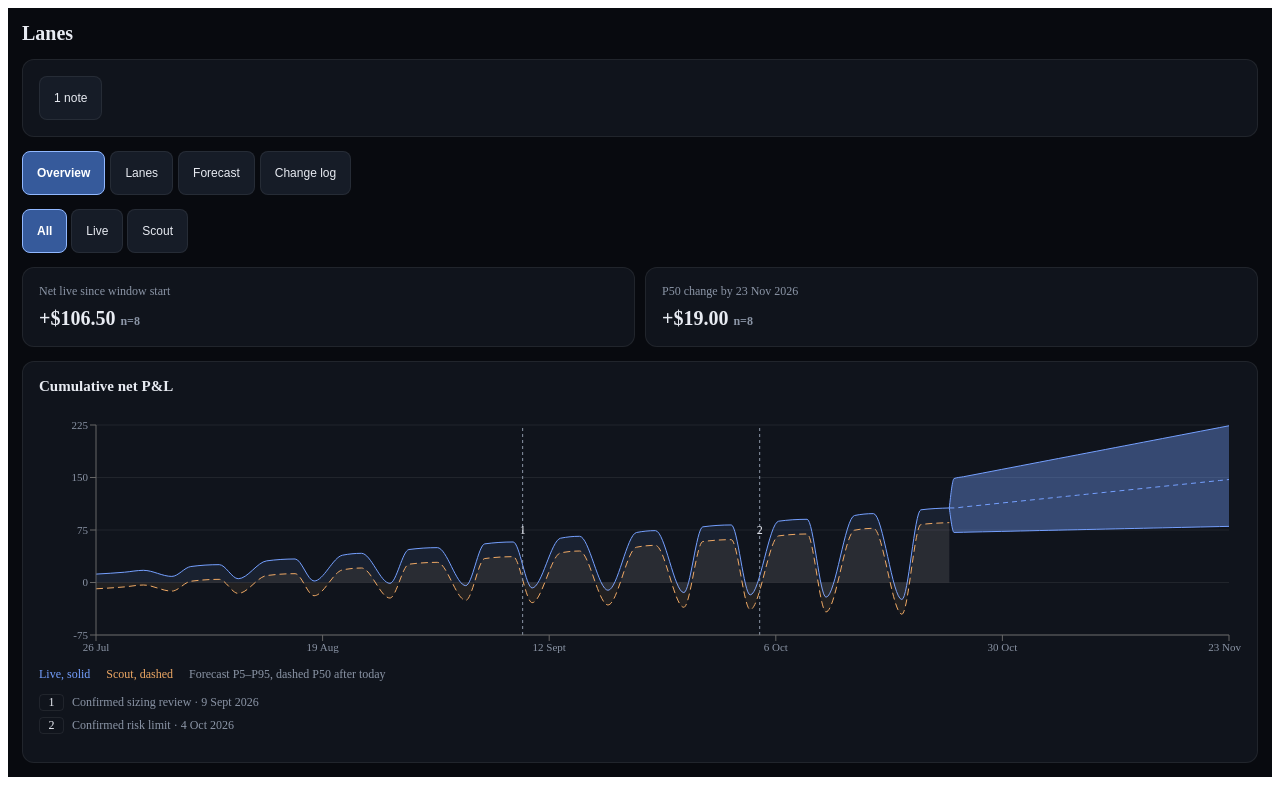
Scenario: LanePerformanceView › renders the synthetic report with all verdicts, R units and an empty lane series
Step 1. Click the button "Lanes" → (142, 173), box [110, 151, 173, 195]
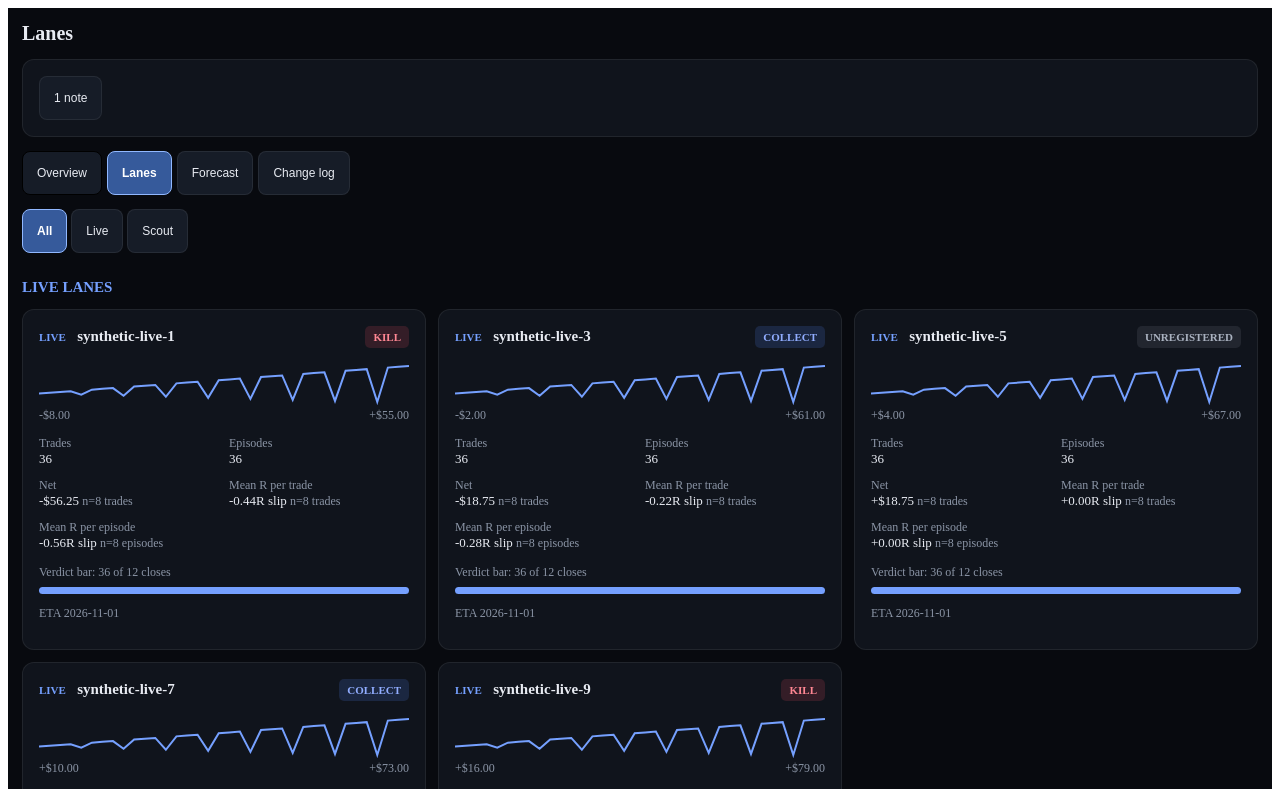
Check: the number of elements with test id "lane-card" is 10
Check: the text "KILL" in the row of "synthetic-live-1" is shown, box [374, 331, 401, 343]
Check: the text "COLLECT" in the row of "synthetic-live-3" is shown, box [763, 331, 817, 343]
Step 2. Click the button "Overview" → (62, 173), box [22, 151, 102, 195]
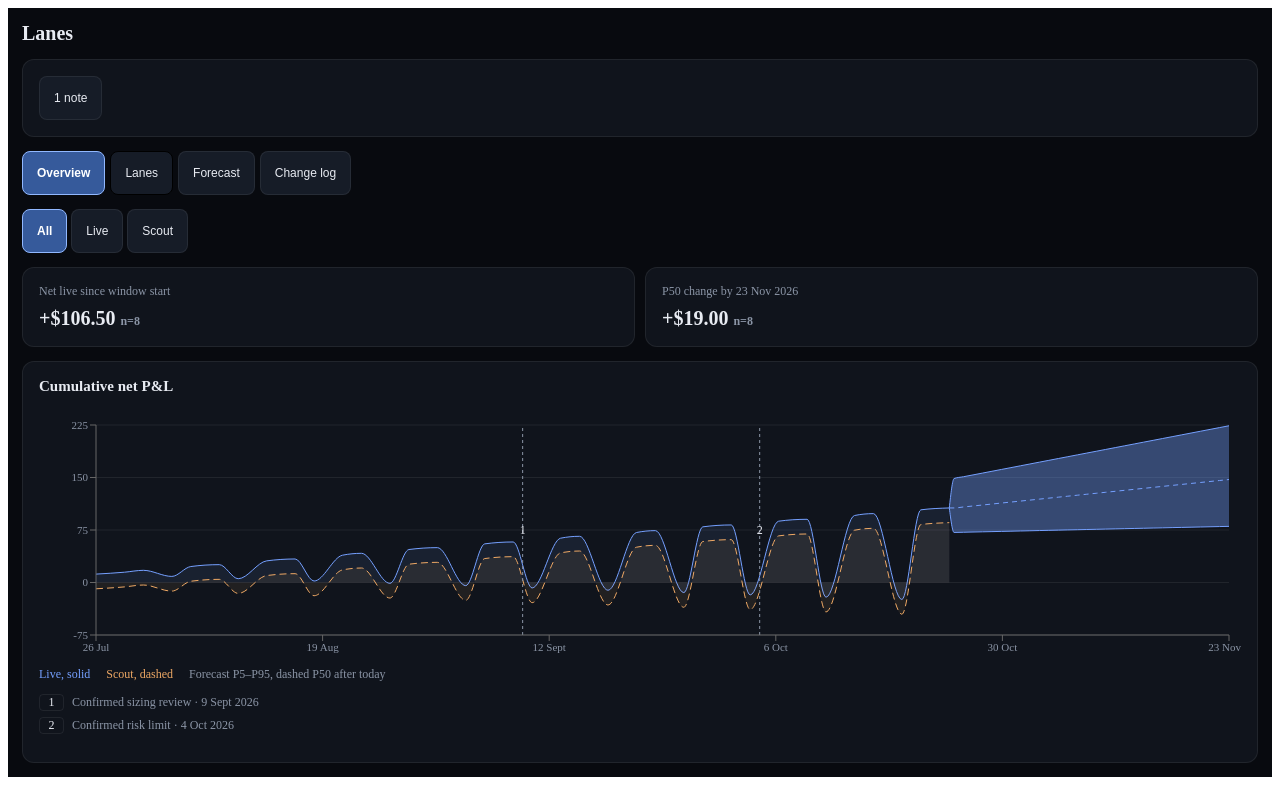
Check: the list named "Confirmed change marker legend" shows "9 Sept 2026", box [201, 695, 259, 709]
